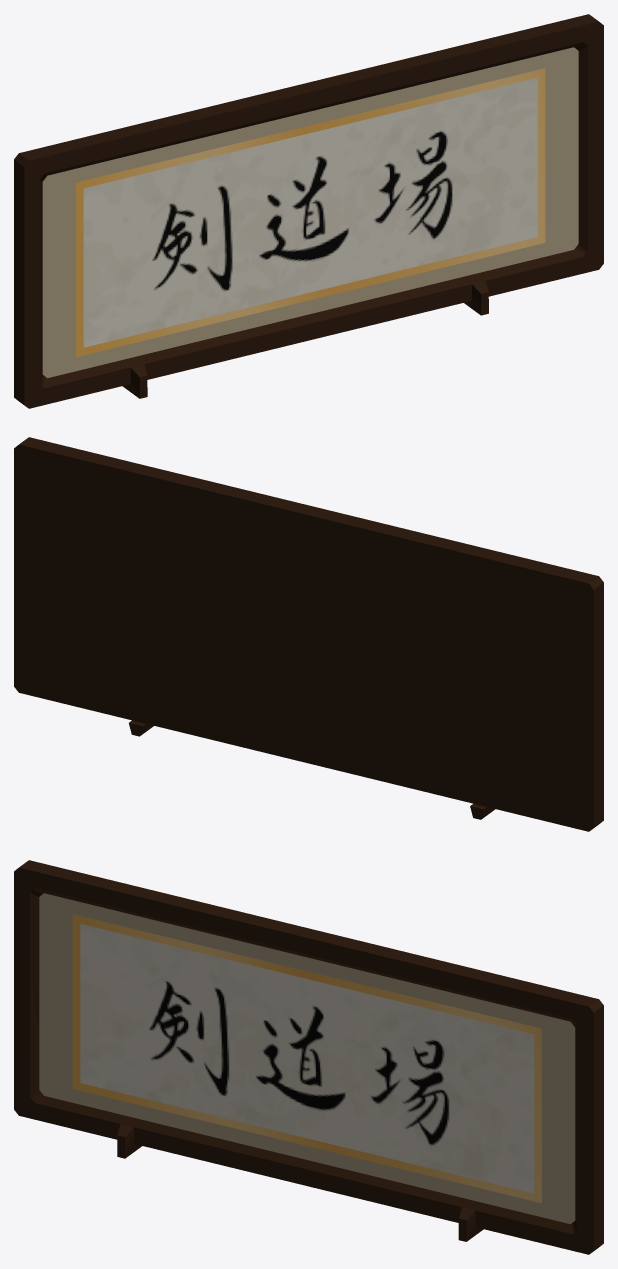
Rendered from Prop_Dojo_Frame_F.fbx.
The picture shows the model from 3 angles, top to bottom: view 1: azimuth 30°, elevation 25°; view 2: azimuth 150°, elevation 25°; view 3: azimuth 330°, elevation 25°; orthographic projection.
Visible parts, largest first — view 1: Prop_Dojo_Frame_F; view 2: Prop_Dojo_Frame_F; view 3: Prop_Dojo_Frame_F.
Part boxes in pixels (box(x1,y1,x2,y2)): Prop_Dojo_Frame_F: box(14, 14, 603, 408); Prop_Dojo_Frame_F: box(14, 437, 603, 831); Prop_Dojo_Frame_F: box(14, 860, 603, 1254).
Size of the model in its own units: 197 by 84.19 by 11.6.
